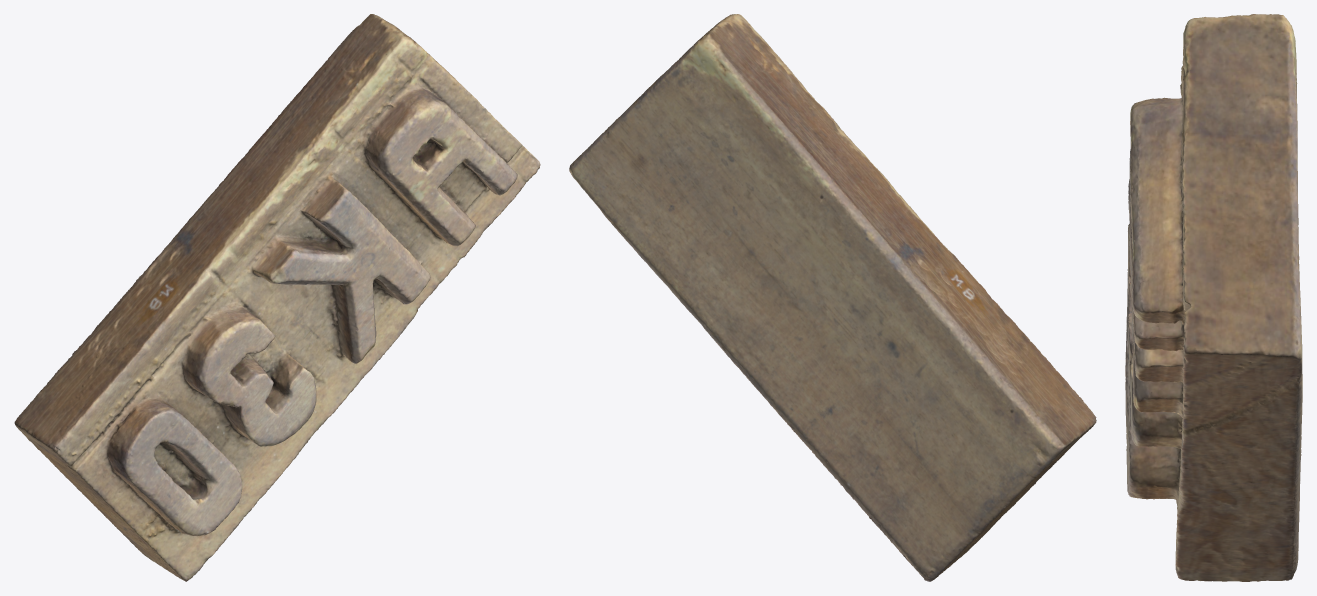
Rendered from marcador_madeira_otimizado.glb.
The picture shows the model from 3 angles, left to right: view 1: azimuth 30°, elevation 25°; view 2: azimuth 150°, elevation 25°; view 3: azimuth 270°, elevation 25°; orthographic projection. The views are drawn at different scales.
Visible parts, largest first — view 1: Mesh_0_Part_0; view 2: Mesh_0_Part_0; view 3: Mesh_0_Part_0.
Part boxes in pixels (x1,y1,x2,y2): Mesh_0_Part_0: [14, 14, 540, 581]; Mesh_0_Part_0: [569, 14, 1096, 581]; Mesh_0_Part_0: [1125, 14, 1302, 581].
Bounding box in the file's own units: 36.13 × 34.39 × 7.61.
1 material, 1 textured.
